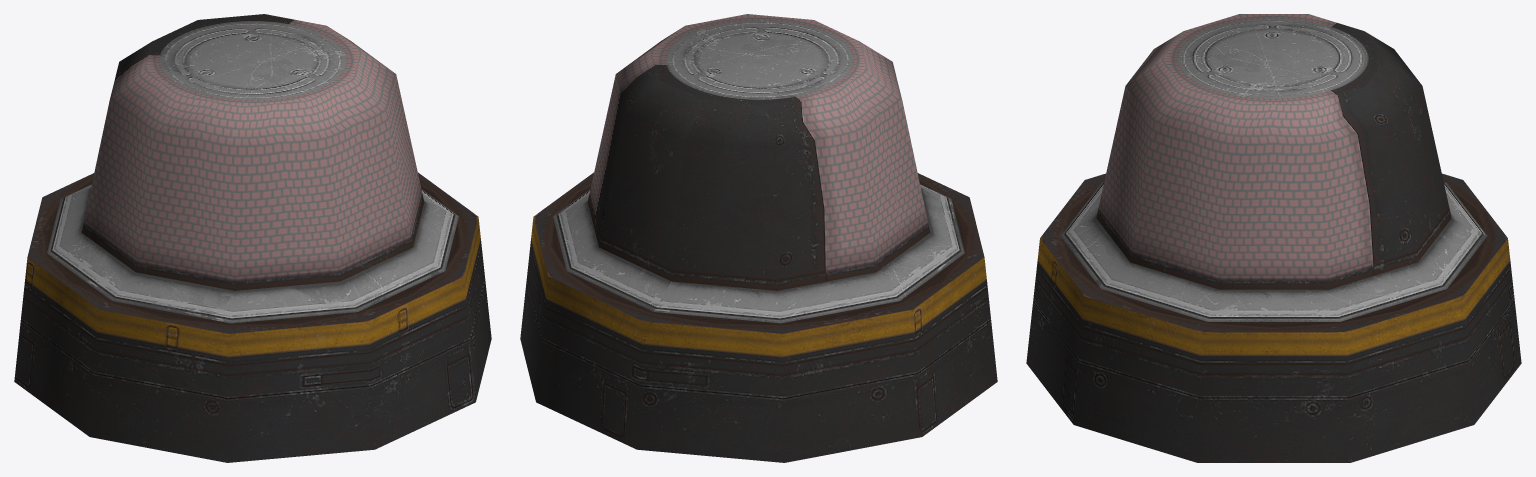
File: Lamp_Position_L2.fbx
The picture shows the model from 3 angles, left to right: view 1: azimuth 30°, elevation 25°; view 2: azimuth 150°, elevation 25°; view 3: azimuth 270°, elevation 25°; orthographic projection.
Visible parts, largest first — view 1: Lamp, Base; view 2: Lamp, Base; view 3: Lamp, Base.
Boxes of the visible parts, x1=… form: Lamp: x1=47, y1=14, x2=458, y2=323; Base: x1=14, y1=172, x2=491, y2=462; Lamp: x1=553, y1=14, x2=964, y2=323; Base: x1=520, y1=172, x2=997, y2=462; Lamp: x1=1060, y1=14, x2=1487, y2=321; Base: x1=1026, y1=173, x2=1521, y2=462.
Size of the model in its own units: 16.92 by 12.07 by 17.79.
